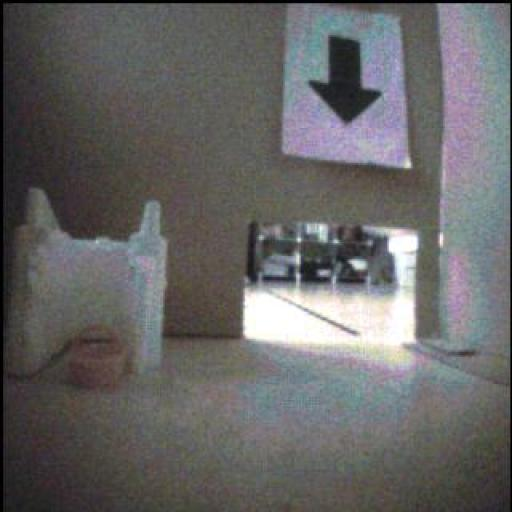arrow: (310, 38, 383, 124)
